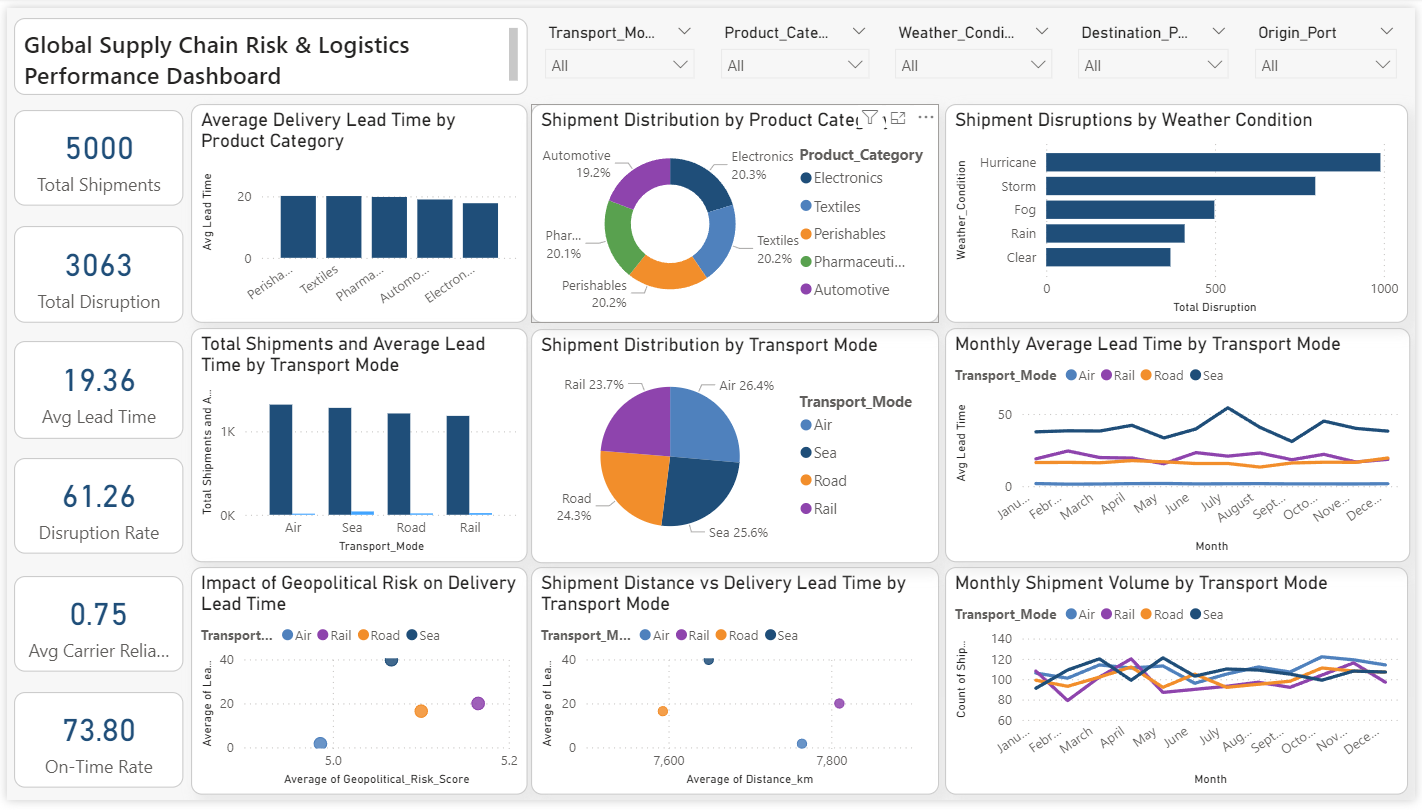

This screenshot's page, from the dashboard's own definition file:
{"tool":"powerbi","page":{"name":"Page 4","canvas":[1280,720],"ordinal":3},"visuals":[{"type":"columnChart","title":"Average Delivery Lead Time by Product Category","fields":{"Category":["supply_chain_analysis shipments.Product_Category"],"Y":["supply_chain_analysis shipments.Avg Lead Time"]},"box":[167.4,87.2,305.8,198.8],"z":0},{"type":"clusteredColumnChart","title":"Total Shipments and Average Lead Time by Transport Mode","fields":{"Category":["supply_chain_analysis shipments.Transport_Mode"],"Y":["supply_chain_analysis shipments.Total Shipments","supply_chain_analysis shipments.Avg Lead Time"]},"box":[167.4,290.7,305.8,212.8],"z":1000},{"type":"scatterChart","title":"Impact of Geopolitical Risk on Delivery Lead Time","fields":{"X":["Avg(supply_chain_analysis shipments.Geopolitical_Risk_Score)"],"Y":["Avg(supply_chain_analysis shipments.Lead_Time_Days)"],"Size":["Avg(supply_chain_analysis shipments.Weight_MT)"],"Series":["supply_chain_analysis shipments.Transport_Mode"]},"box":[167.4,508.1,305.8,207],"z":2000},{"type":"slicer","fields":{"Values":["supply_chain_analysis shipments.Transport_Mode"]},"box":[479,8.8,155.8,69.8],"z":3000},{"type":"slicer","fields":{"Values":["supply_chain_analysis shipments.Product_Category"]},"box":[639.5,8.8,154.7,69.8],"z":4000},{"type":"slicer","fields":{"Values":["supply_chain_analysis shipments.Weather_Condition"]},"box":[797.6,8.8,162.8,69.8],"z":5000},{"type":"slicer","fields":{"Values":["supply_chain_analysis shipments.Destination_Port"]},"box":[963.9,8.8,157,69.8],"z":6000},{"type":"slicer","fields":{"Values":["supply_chain_analysis shipments.Origin_Port"]},"box":[1124.3,8.8,148.8,69.8],"z":7000},{"type":"scatterChart","title":"Shipment Distance vs Delivery Lead Time by Transport Mode","fields":{"X":["Avg(supply_chain_analysis shipments.Distance_km)"],"Y":["Avg(supply_chain_analysis shipments.Lead_Time_Days)"],"Series":["supply_chain_analysis shipments.Transport_Mode"]},"box":[476.7,508.1,370.9,207],"z":8000},{"type":"pieChart","title":"Shipment Distribution by Transport Mode","fields":{"Category":["supply_chain_analysis shipments.Transport_Mode"],"Y":["CountNonNull(supply_chain_analysis shipments.Shipment_ID)"]},"box":[476.7,291.9,370.9,212.8],"z":9000},{"type":"lineChart","title":"Monthly Shipment Volume by Transport Mode","fields":{"Category":["supply_chain_analysis shipments.Date.Variation.Date Hierarchy.Year","supply_chain_analysis shipments.Date.Variation.Date Hierarchy.Quarter","supply_chain_analysis shipments.Date.Variation.Date Hierarchy.Month"],"Y":["CountNonNull(supply_chain_analysis shipments.Shipment_ID)"],"Series":["supply_chain_analysis shipments.Transport_Mode"]},"box":[852.3,508.1,420.9,207],"z":10000},{"type":"lineChart","title":"Monthly Average Lead Time by Transport Mode","fields":{"Category":["supply_chain_analysis shipments.Date.Variation.Date Hierarchy.Month"],"Y":["supply_chain_analysis shipments.Avg Lead Time"],"Series":["supply_chain_analysis shipments.Transport_Mode"]},"box":[852.3,290.7,423.3,212.8],"z":11000},{"type":"donutChart","title":"Shipment Distribution by Product Category","fields":{"Category":["supply_chain_analysis shipments.Product_Category"],"Y":["CountNonNull(supply_chain_analysis shipments.Shipment_ID)"]},"box":[476.7,87.2,370.9,198.8],"z":12000},{"type":"barChart","title":"Shipment Disruptions by Weather Condition","fields":{"Category":["supply_chain_analysis shipments.Weather_Condition"],"Y":["supply_chain_analysis shipments.Total Disruption"]},"box":[852.3,87.2,420.9,198.8],"z":13000},{"type":"card","fields":{"Values":["supply_chain_analysis shipments.Total Shipments"]},"box":[6.2,93.1,154.3,86.9],"z":14000},{"type":"card","fields":{"Values":["supply_chain_analysis shipments.Total Disruption"]},"box":[6.2,197.7,154.3,87.8],"z":15000},{"type":"card","fields":{"Values":["supply_chain_analysis shipments.Avg Lead Time"]},"box":[6.2,302.4,154.3,88.7],"z":16000},{"type":"card","fields":{"Values":["supply_chain_analysis shipments.Disruption Rate"]},"box":[6.2,408.8,154.3,86.9],"z":17000},{"type":"textbox","box":[6.2,8.9,467.3,70],"z":18000},{"type":"card","fields":{"Values":["supply_chain_analysis shipments.Avg Carrier Reliability"]},"box":[6.2,516.1,154.3,86.9],"z":19000},{"type":"card","fields":{"Values":["supply_chain_analysis shipments.On-Time Rate"]},"box":[6,621.9,154.2,86.7],"z":19001}]}

Visuals, with their boxes in screenshot pixels (x1, y1, x2, y2), scaled from the page's 1280x720 canvas onto the 1422x810 screenshot:
"Average Delivery Lead Time by Product Category" columnChart: BBox(186, 98, 526, 322)
"Total Shipments and Average Lead Time by Transport Mode" clusteredColumnChart: BBox(186, 327, 526, 566)
"Impact of Geopolitical Risk on Delivery Lead Time" scatterChart: BBox(186, 572, 526, 804)
slicer - supply_chain_analysis shipments.Transport_Mode: BBox(532, 10, 705, 88)
slicer - supply_chain_analysis shipments.Product_Category: BBox(710, 10, 882, 88)
slicer - supply_chain_analysis shipments.Weather_Condition: BBox(886, 10, 1067, 88)
slicer - supply_chain_analysis shipments.Destination_Port: BBox(1071, 10, 1245, 88)
slicer - supply_chain_analysis shipments.Origin_Port: BBox(1249, 10, 1414, 88)
"Shipment Distance vs Delivery Lead Time by Transport Mode" scatterChart: BBox(530, 572, 942, 804)
"Shipment Distribution by Transport Mode" pieChart: BBox(530, 328, 942, 568)
"Monthly Shipment Volume by Transport Mode" lineChart: BBox(947, 572, 1414, 804)
"Monthly Average Lead Time by Transport Mode" lineChart: BBox(947, 327, 1417, 566)
"Shipment Distribution by Product Category" donutChart: BBox(530, 98, 942, 322)
"Shipment Disruptions by Weather Condition" barChart: BBox(947, 98, 1414, 322)
card - supply_chain_analysis shipments.Total Shipments: BBox(7, 105, 178, 202)
card - supply_chain_analysis shipments.Total Disruption: BBox(7, 222, 178, 321)
card - supply_chain_analysis shipments.Avg Lead Time: BBox(7, 340, 178, 440)
card - supply_chain_analysis shipments.Disruption Rate: BBox(7, 460, 178, 558)
textbox: BBox(7, 10, 526, 89)
card - supply_chain_analysis shipments.Avg Carrier Reliability: BBox(7, 581, 178, 678)
card - supply_chain_analysis shipments.On-Time Rate: BBox(7, 700, 178, 797)
